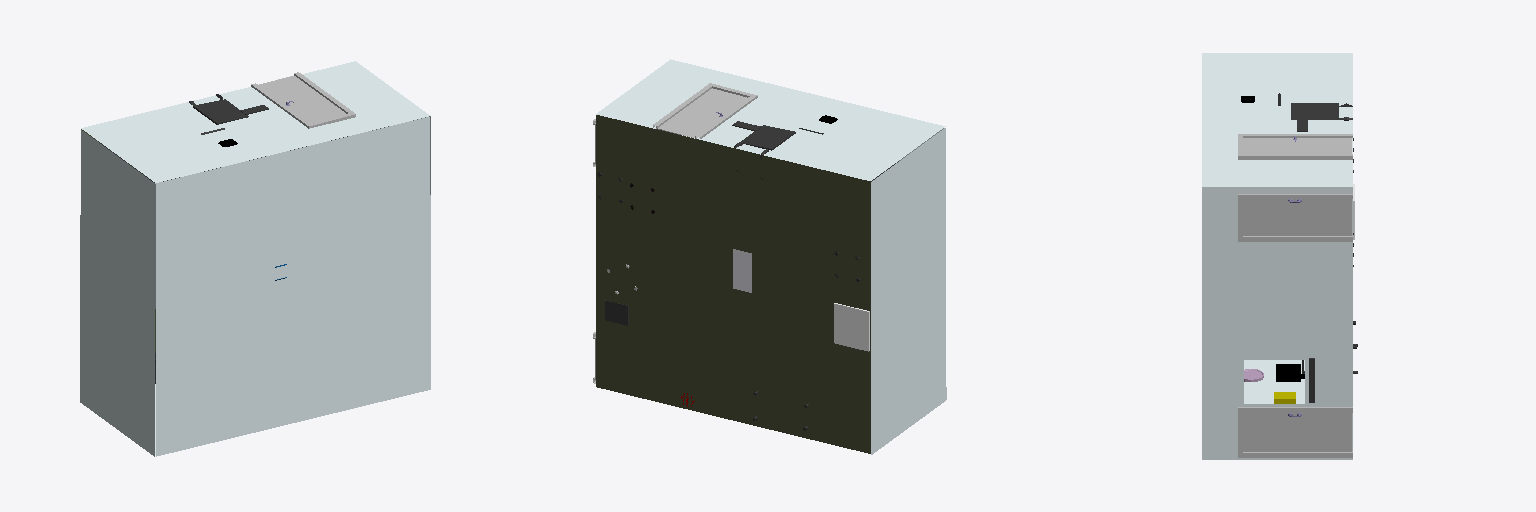
The model's file is operatingRoomWithoutCOne.obj.
3 renders of one model, left to right at view 1: azimuth 30°, elevation 25°; view 2: azimuth 150°, elevation 25°; view 3: azimuth 270°, elevation 25°, orthographic.
Parts seen in each view (by area): view 1: Top_Face, Right_Face, Front_Face, Door, DoorFrame, SM_Prop_ToolCabinet_01_-_Copy; view 2: Bottom_Face, Right_Face, Front_Face, Door, Cube.002, DoorFrame, SM_Prop_ToolCabinet_01_-_Copy, Cube; view 3: Left_Face, Front_Face, Door.002, Door.001, Door, Back_Face, DoorFrame.002, DoorFrame.001, DoorFrame, SM_Prop_ToolCabinet_01_-_Copy.
Part boxes in pixels (x1,y1,x2,y2): Top_Face: (155,117,430,456); Right_Face: (80,130,155,456); Front_Face: (81,61,429,182); Door: (259,76,345,122); DoorFrame: (251,72,355,128); SM_Prop_ToolCabinet_01_-_Copy: (189,94,248,124); Bottom_Face: (596,115,870,453); Right_Face: (871,128,946,454); Front_Face: (596,59,945,180); Door: (657,88,746,138); Cube.002: (834,303,869,351); DoorFrame: (653,83,757,138); SM_Prop_ToolCabinet_01_-_Copy: (734,125,795,179); Cube: (733,249,751,292); Left_Face: (1202,187,1352,459); Front_Face: (1202,53,1352,186); Door.002: (1243,413,1351,451); Door.001: (1243,199,1351,235); Door: (1243,138,1351,153); Back_Face: (1244,360,1304,403); DoorFrame.002: (1238,407,1352,457); DoorFrame.001: (1238,194,1352,241); DoorFrame: (1238,134,1352,159); SM_Prop_ToolCabinet_01_-_Copy: (1291,103,1352,120).
Bounding box in the file's own units: 5.89 × 5.58 × 2.84.